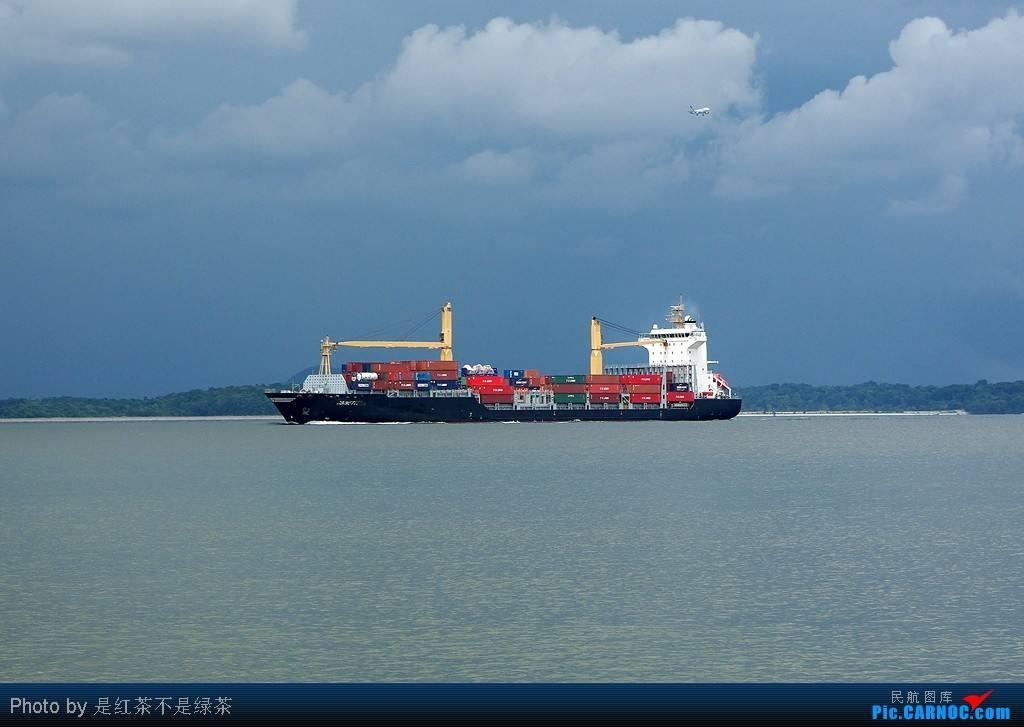Cargoship: (251, 281, 740, 443)
airplane: (685, 98, 723, 125)
